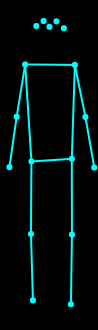mountain: (5, 16, 97, 307)
